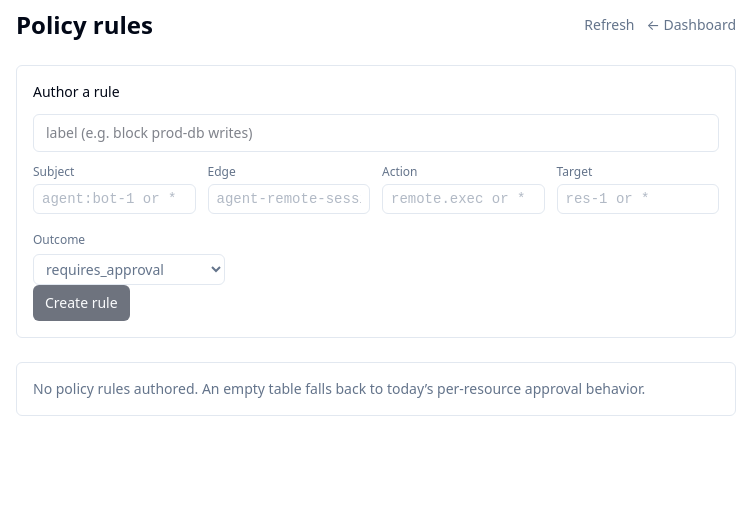
Test: PolicyRules route › FE-25 blast radius › states the severity-beats-specificity consequence for a wildcard-bearing deny
The width and height of the screenshot is (753, 523).
Expected: the field labelled "Target" is shown, [556,184,719,214]
Type "agent:bot-1" into the field labelled "Subject" at (114, 199), box [33,184,196,214]
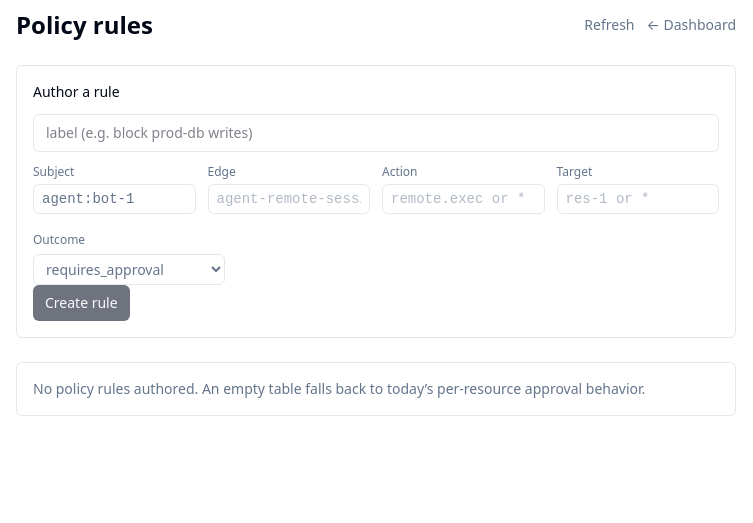
Type "agent-remote-session" into the field labelled "Edge" at (289, 199), box [208,184,370,214]
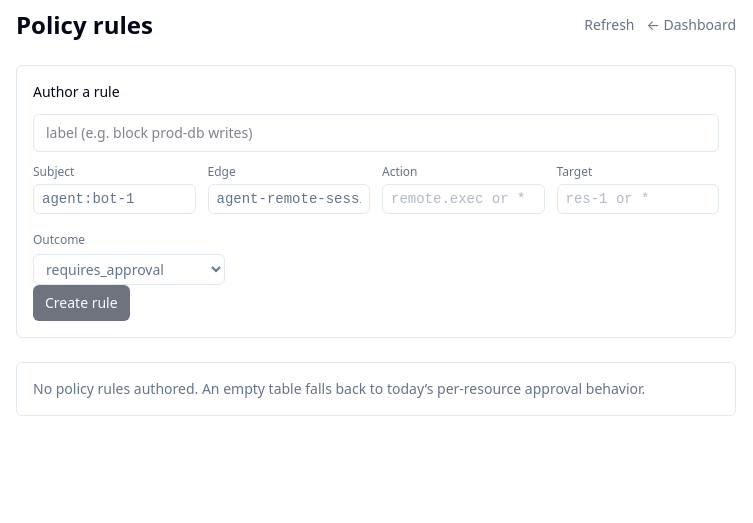
Type "remote.exec" into the field labelled "Action" at (463, 199), box [382,184,544,214]
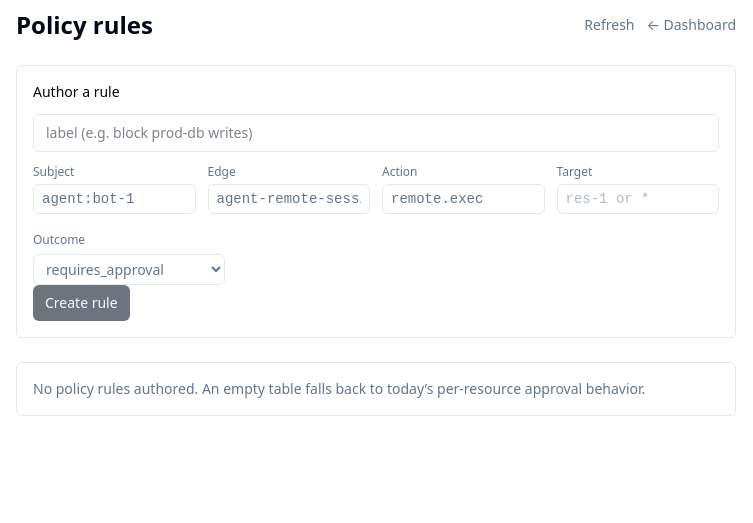
Type "*" into the field labelled "Target" at (638, 199), box [556,184,719,214]
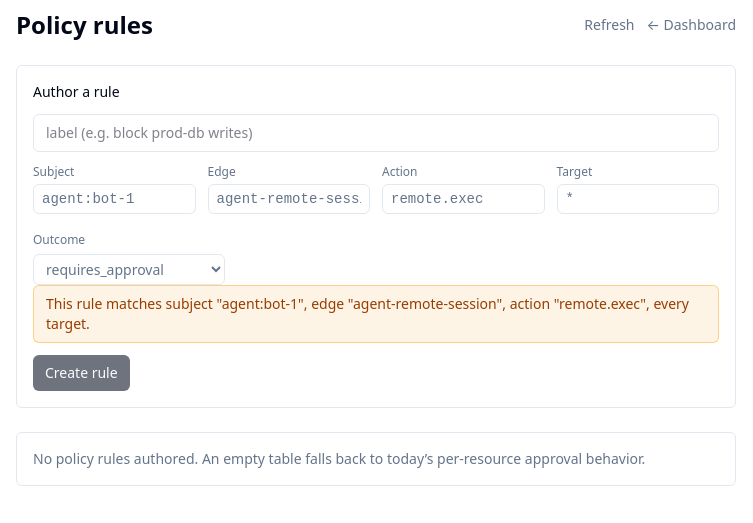
Select "deny" in the dropdown labelled "Outcome" at (129, 270), box [33,254,225,285]
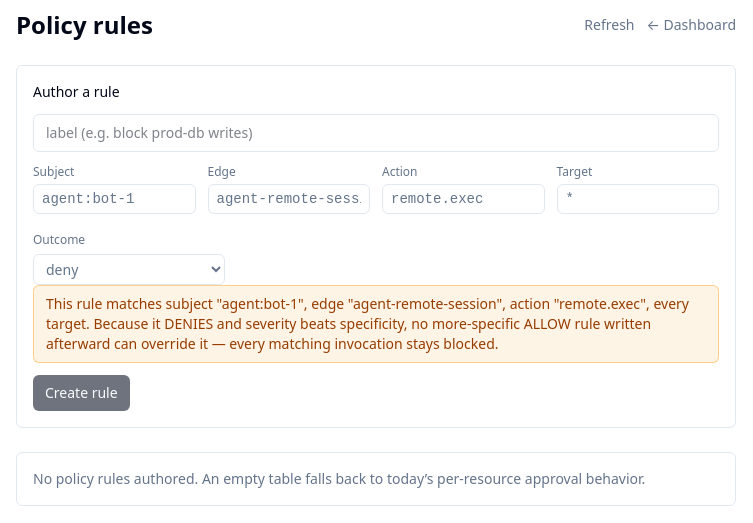
Result: the text named "blast radius" shows "every target" at [46,294,689,353]
Result: the text named "blast radius" shows "severity beats specificity" at [46,294,689,353]
Result: the text named "blast radius" shows "no more-specific allow rule" at [46,294,689,353]
